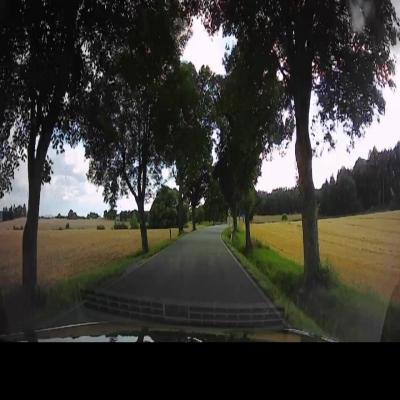clear-road: (108, 224, 266, 303)
